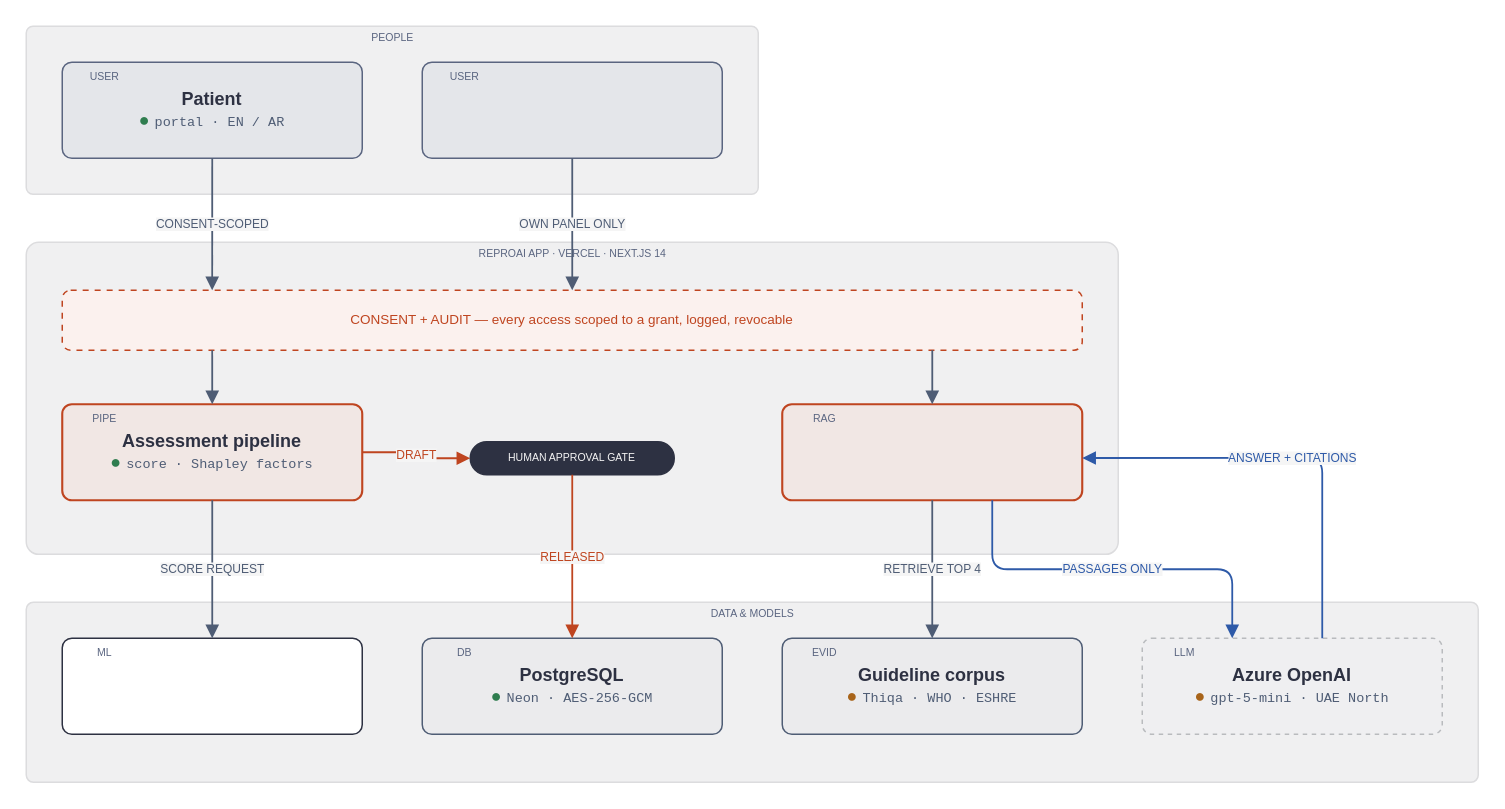
The diagram is 1505 pixels wide and 809 high, and some of its shapes have lost their labels. The shapes that lost their labels are listed below. From the top down, each one's box as (x1, y1, x2, y2) in pixels, then its label:
(421, 61, 722, 158): Clinician ● own care panel
(780, 402, 1083, 501): Grounded answer ● retrieve · verify · cite
(61, 637, 362, 734): ML service ● FastAPI · score + attribution
